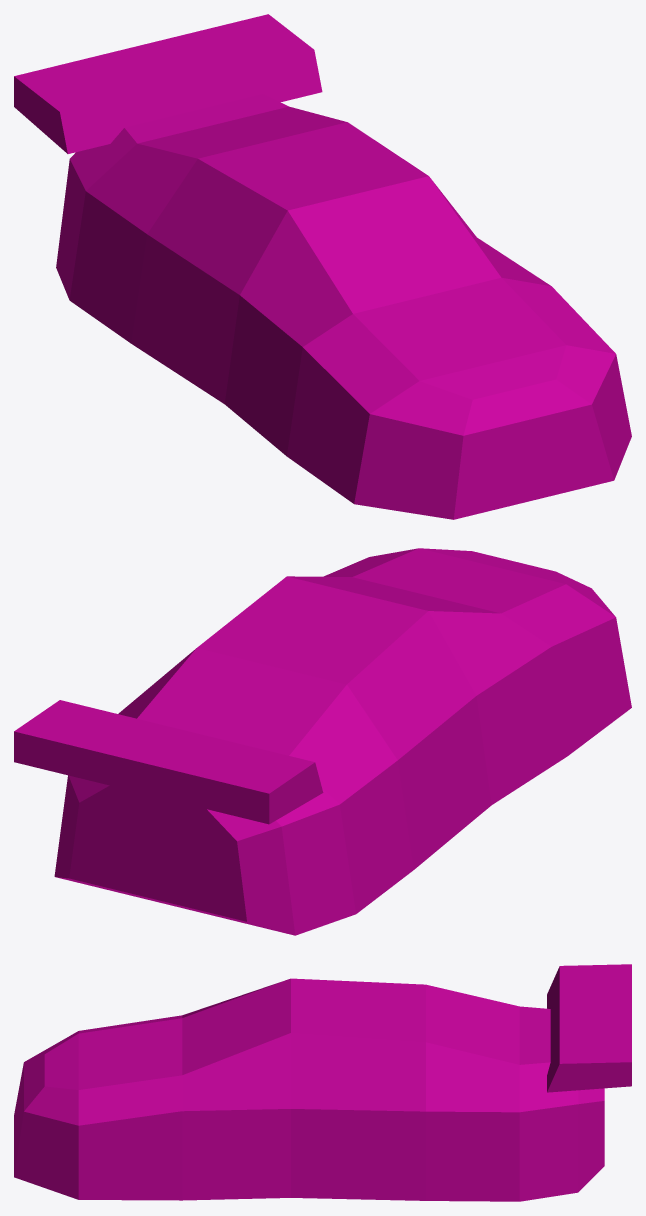
File: SM_Veh_Touring_01_Preset_01_Collision.fbx
The picture shows the model from 3 angles, top to bottom: view 1: azimuth 30°, elevation 25°; view 2: azimuth 150°, elevation 25°; view 3: azimuth 270°, elevation 25°; orthographic projection. The views are drawn at different scales.
Parts seen in each view (by area): view 1: SM_Veh_Touring_01_Preset_01_Collision; view 2: SM_Veh_Touring_01_Preset_01_Collision; view 3: SM_Veh_Touring_01_Preset_01_Collision.
Part boxes in pixels (x1,y1,x2,y2): SM_Veh_Touring_01_Preset_01_Collision: [14, 14, 631, 519]; SM_Veh_Touring_01_Preset_01_Collision: [14, 548, 631, 935]; SM_Veh_Touring_01_Preset_01_Collision: [14, 964, 631, 1201].
Size of the model in its own units: 233 by 138 by 549.
